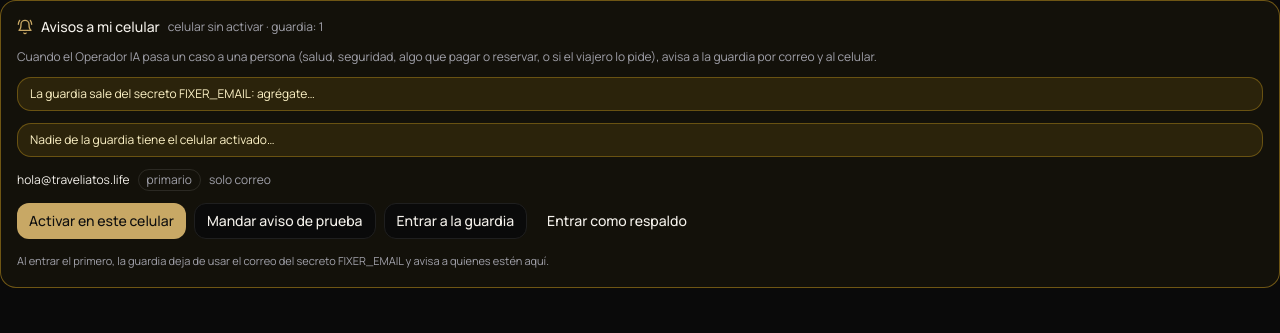
Test: avisos al equipo · pantalla › Activar en este celular pide permiso del navegador y recarga el estado
Click the button "Activar en este celular". click: {"x": 101, "y": 221}
box: [17,203,186,239]
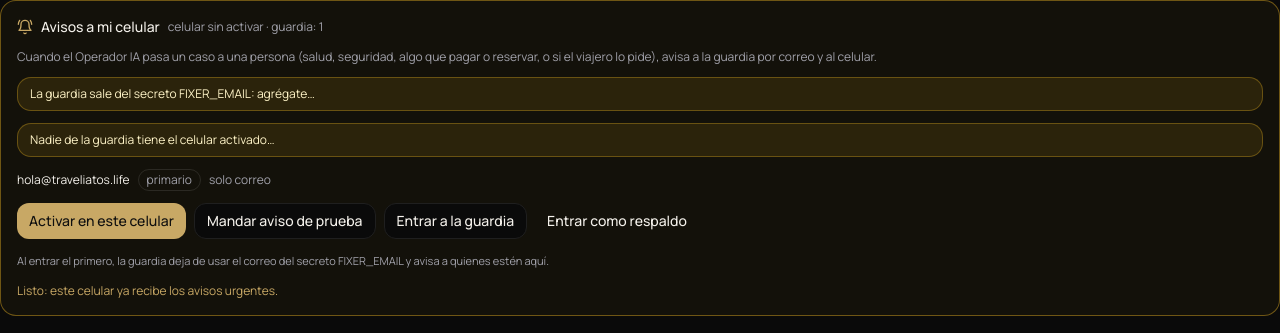
Check: the text "Listo: este celular ya recibe los avisos urgentes." is shown, box [17,282,278,299]
